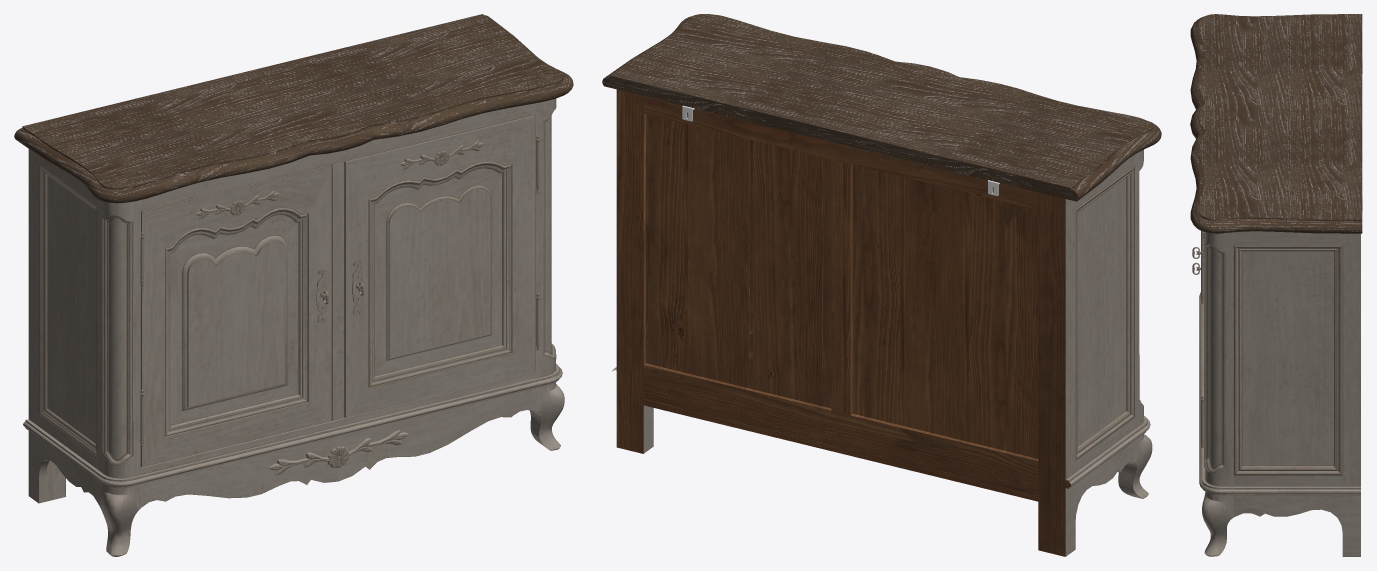
Rendered from example42.glb.
The picture shows the model from 3 angles, left to right: view 1: azimuth 30°, elevation 25°; view 2: azimuth 150°, elevation 25°; view 3: azimuth 270°, elevation 25°; orthographic projection. The views are drawn at different scales.
Parts seen in each view (by area): view 1: DPC1_paint, DPC1_top; view 2: DPC1_back, DPC1_top, DPC1_paint; view 3: DPC1_paint, DPC1_top.
Part boxes in pixels (<box>): DPC1_paint: <box>23,98,564,556</box>; DPC1_top: <box>14,14,573,203</box>; DPC1_back: <box>616,89,1071,556</box>; DPC1_top: <box>602,14,1161,201</box>; DPC1_paint: <box>612,149,1152,556</box>; DPC1_paint: <box>1192,231,1360,556</box>; DPC1_top: <box>1190,14,1362,233</box>.
Bounding box in the file's own units: 1.36 × 1.01 × 0.4655.
Materials: 4 (3 with a texture image).
